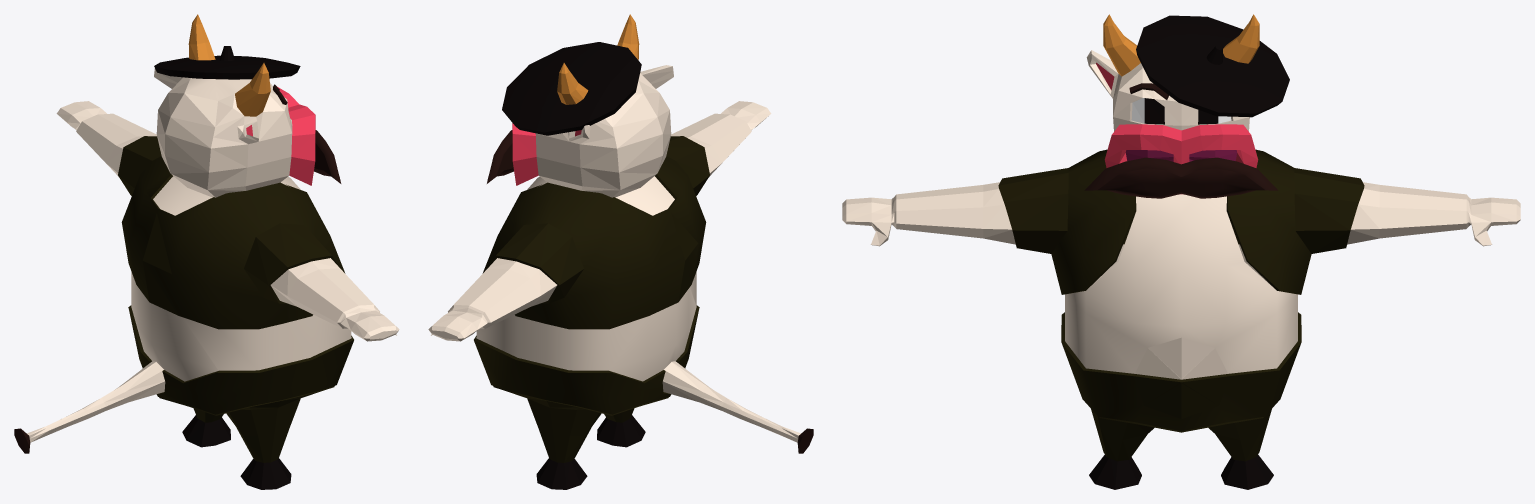
Rendered from WarCowChief_NotAnimated.FBX.
The picture shows the model from 3 angles, left to right: view 1: azimuth 30°, elevation 25°; view 2: azimuth 150°, elevation 25°; view 3: azimuth 270°, elevation 25°; orthographic projection. The views are drawn at different scales.
Visible parts, largest first — view 1: Veste; view 2: Veste; view 3: Veste.
Boxes of the visible parts, x1=… form: Veste: x1=14, y1=14, x2=399, y2=489; Veste: x1=428, y1=14, x2=813, y2=489; Veste: x1=842, y1=14, x2=1520, y2=489.
Size of the model in its own units: 46.95 by 60.92 by 81.38.
